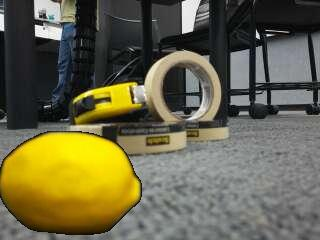lemon: (2, 133, 141, 235)
